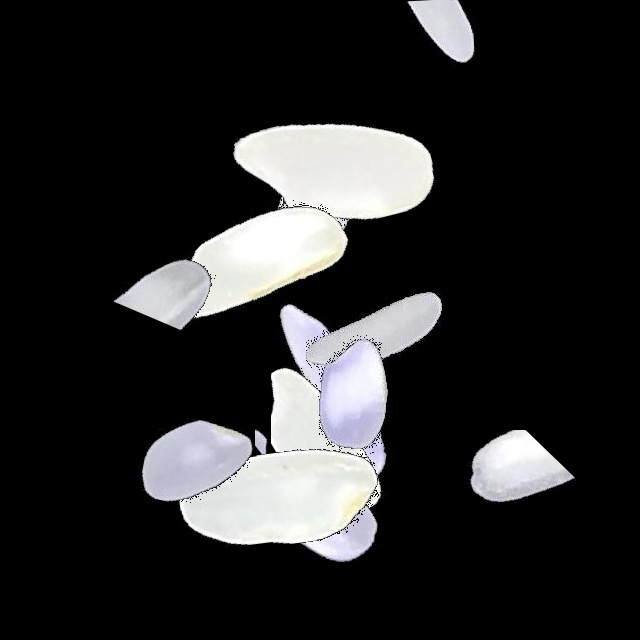Broken: (271, 297, 436, 547), (372, 430, 622, 569), (112, 132, 242, 382), (309, 0, 559, 128), (255, 306, 335, 556)
Full: (206, 264, 456, 514), (167, 94, 417, 344), (179, 99, 429, 349), (247, 208, 497, 458), (205, 389, 455, 639), (153, 375, 403, 625), (227, 267, 477, 517), (211, 43, 461, 293), (129, 142, 379, 392), (70, 336, 320, 586)
